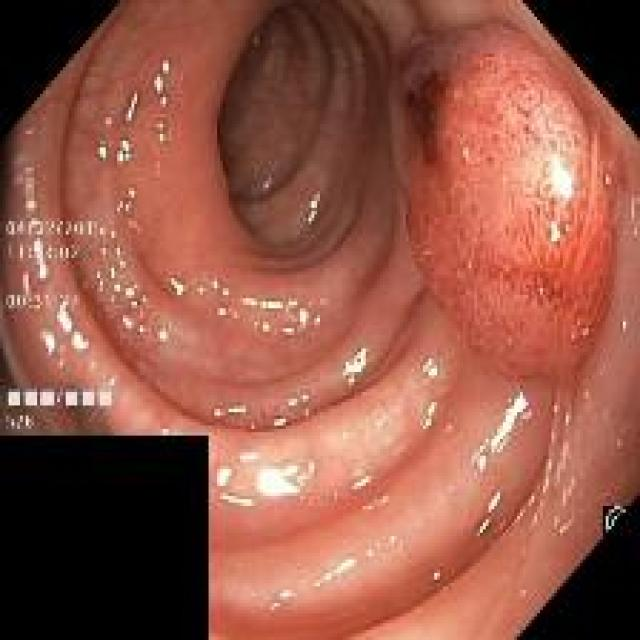Polyps: (405, 26, 614, 377)
